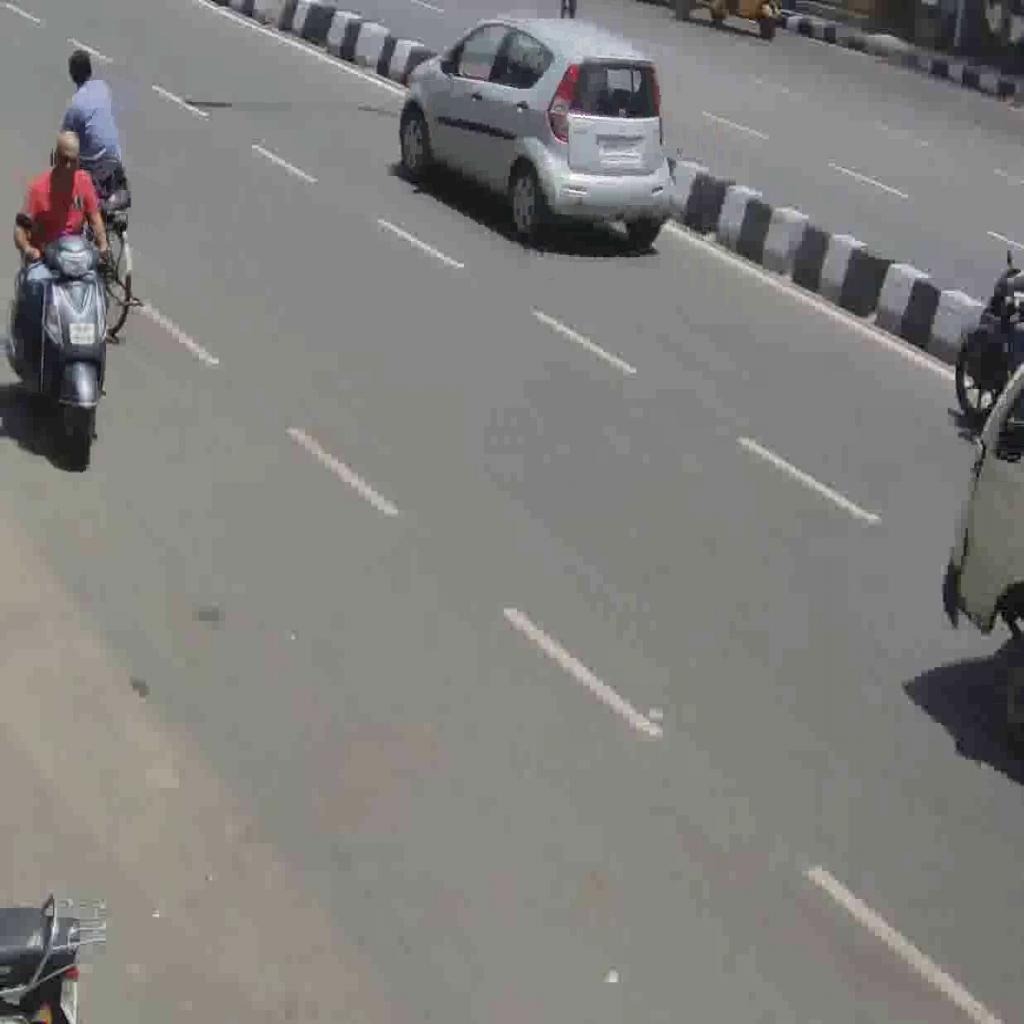bike: (21, 232, 113, 428)
no_helmet: (50, 123, 84, 181), (67, 322, 98, 346)
rider: (13, 125, 111, 256)
